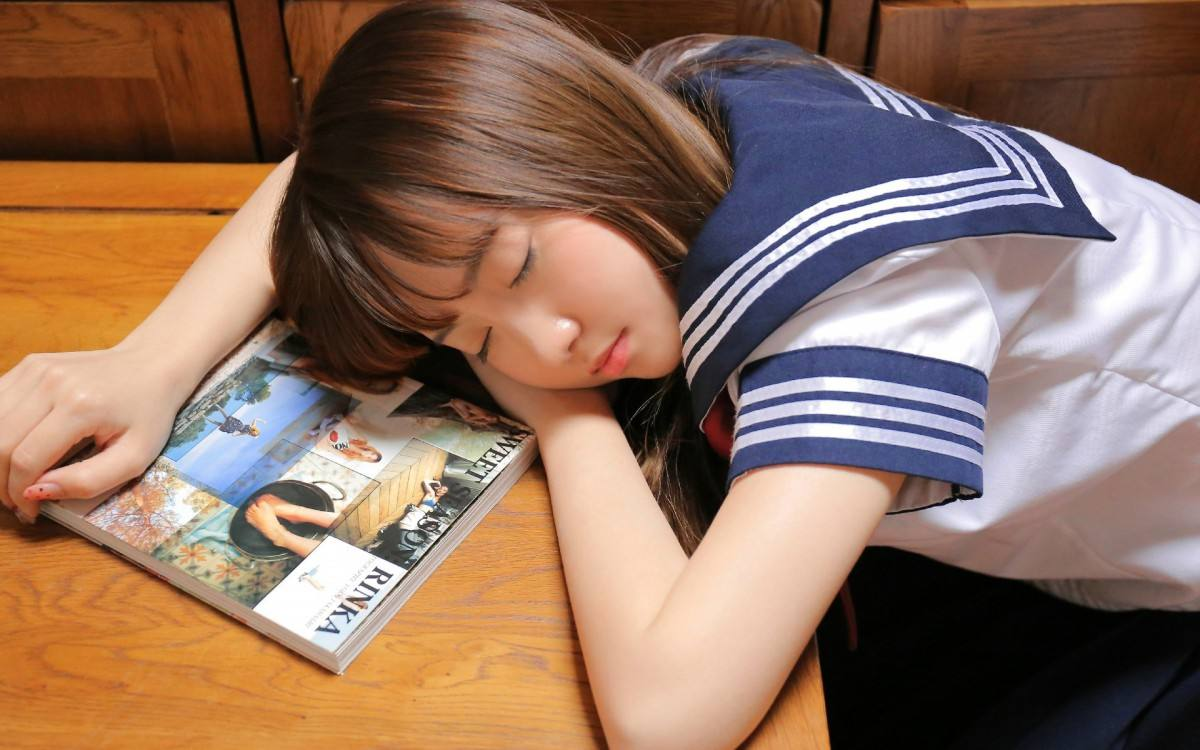person: (279, 19, 893, 571)
